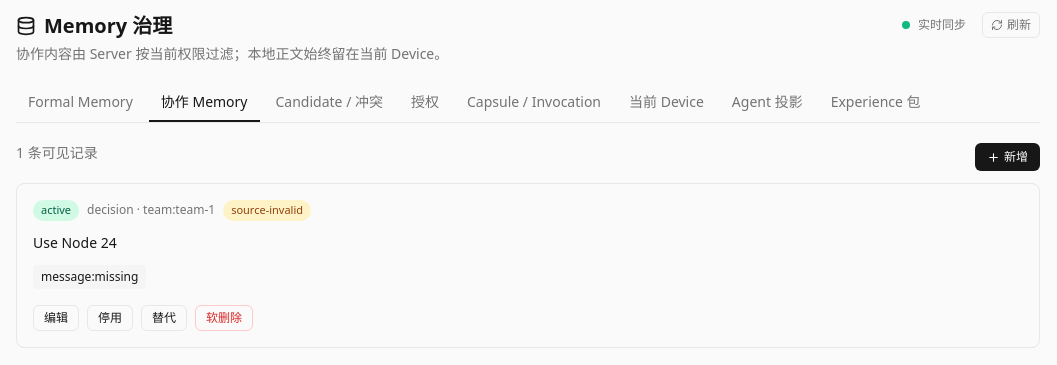
Test: MemoryGovernancePanel › guides legacy browsers through secure Device re-linking
Check: the text "Use Node 24" is shown, box [33,232,117,252]
Click the button "当前 Device" at point(666, 103), box [617,84,716,122]
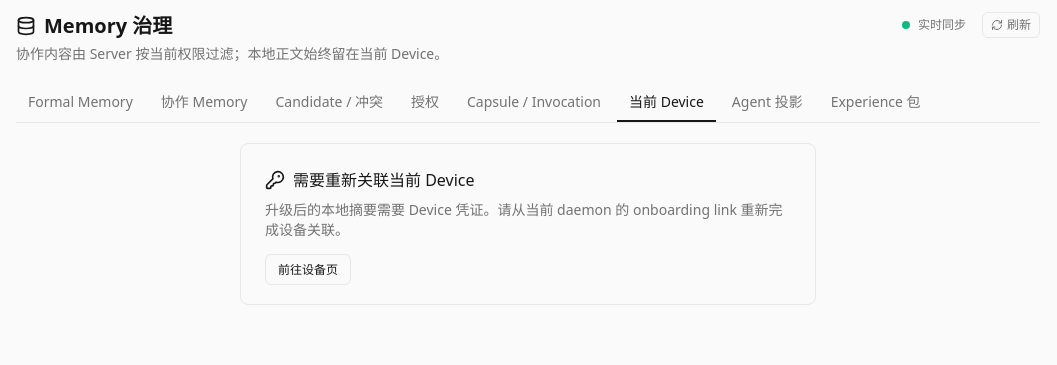
Check: the text "需要重新关联当前 Device" is shown, box [265,169,474,191]
